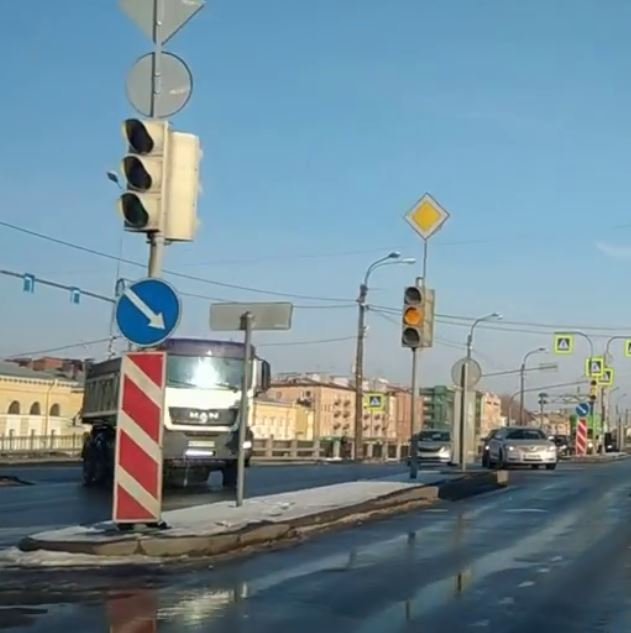Sagdan Git: (119, 273, 185, 344)
